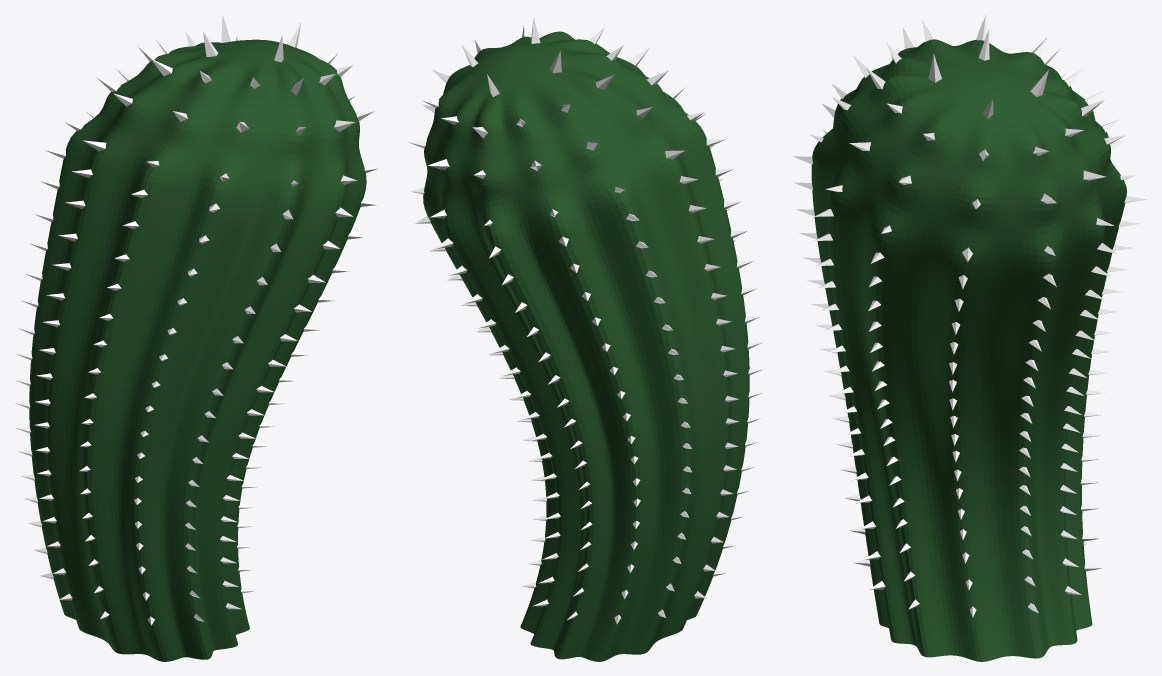
The model's file is goofy_cactus_torto.fbx.
3 renders of one model, left to right at view 1: azimuth 30°, elevation 25°; view 2: azimuth 150°, elevation 25°; view 3: azimuth 270°, elevation 25°, orthographic. The views are drawn at different scales.
Parts seen in each view (by area): view 1: Sphere.001; view 2: Sphere.001; view 3: Sphere.001.
Boxes of the visible parts, bbox=[...] form: Sphere.001: bbox=[15, 15, 377, 661]; Sphere.001: bbox=[408, 14, 762, 661]; Sphere.001: bbox=[793, 15, 1146, 661].
Size of the model in its own units: 433 by 742 by 384.
